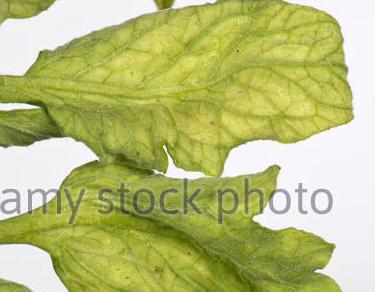Tomato leaf mosaic virus: (0, 5, 373, 180), (20, 144, 375, 292)
